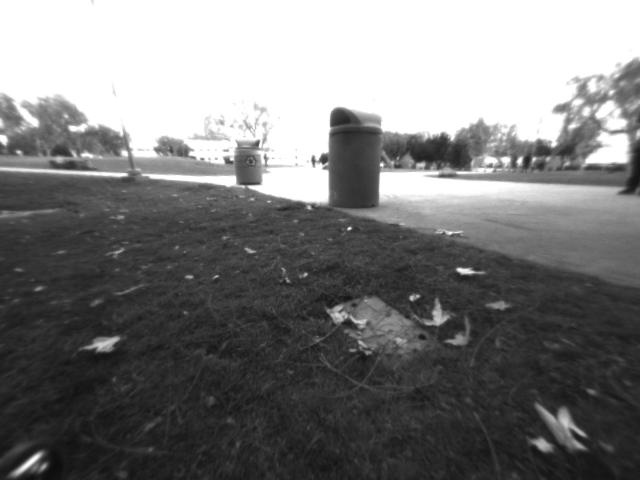trashcan: (323, 101, 395, 211)
